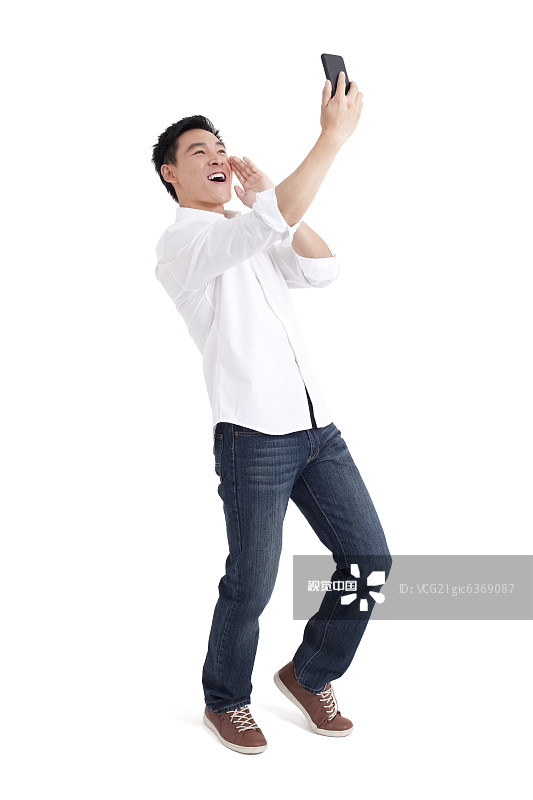no-phone: (216, 147, 278, 209)
taking photos: (299, 49, 375, 149)
